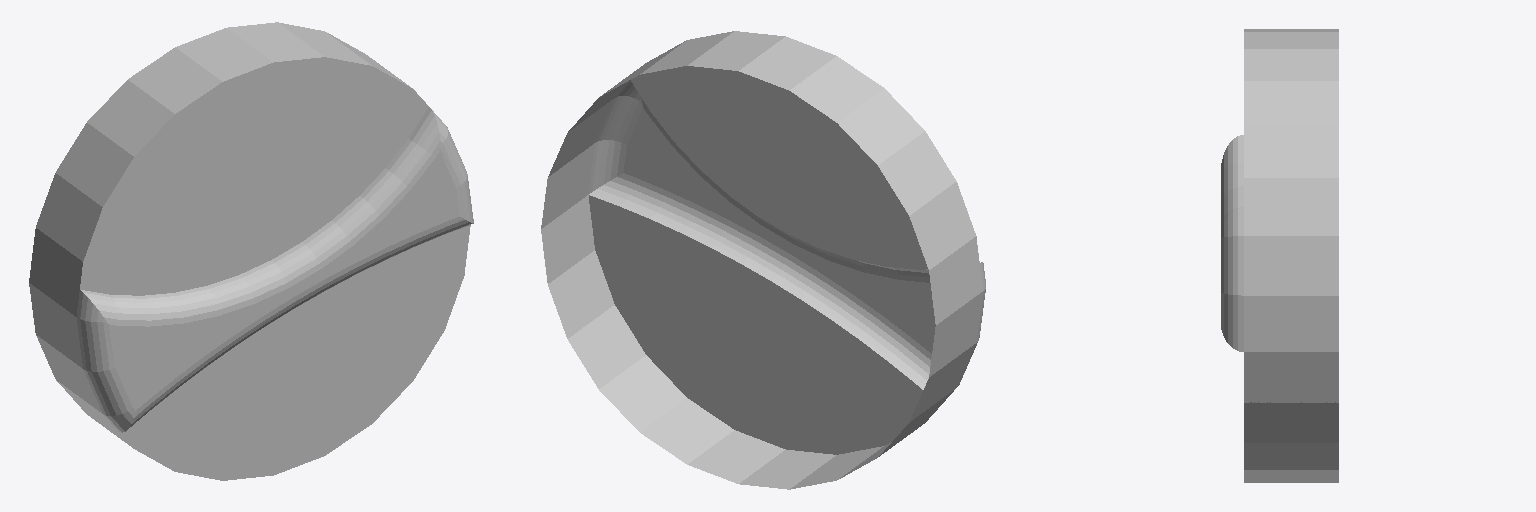
The model's file is original-6.obj.
3 renders of one model, left to right at view 1: azimuth 30°, elevation 25°; view 2: azimuth 150°, elevation 25°; view 3: azimuth 270°, elevation 25°, orthographic.
Visible parts, largest first — view 1: #ID24; view 2: #ID24; view 3: #ID24.
Part boxes in pixels (x1,y1,x2,y2): #ID24: (29, 22, 473, 480); #ID24: (541, 31, 985, 489); #ID24: (1221, 29, 1338, 482).
Bounding box in the file's own units: 0.1422 × 0.1421 × 0.037.